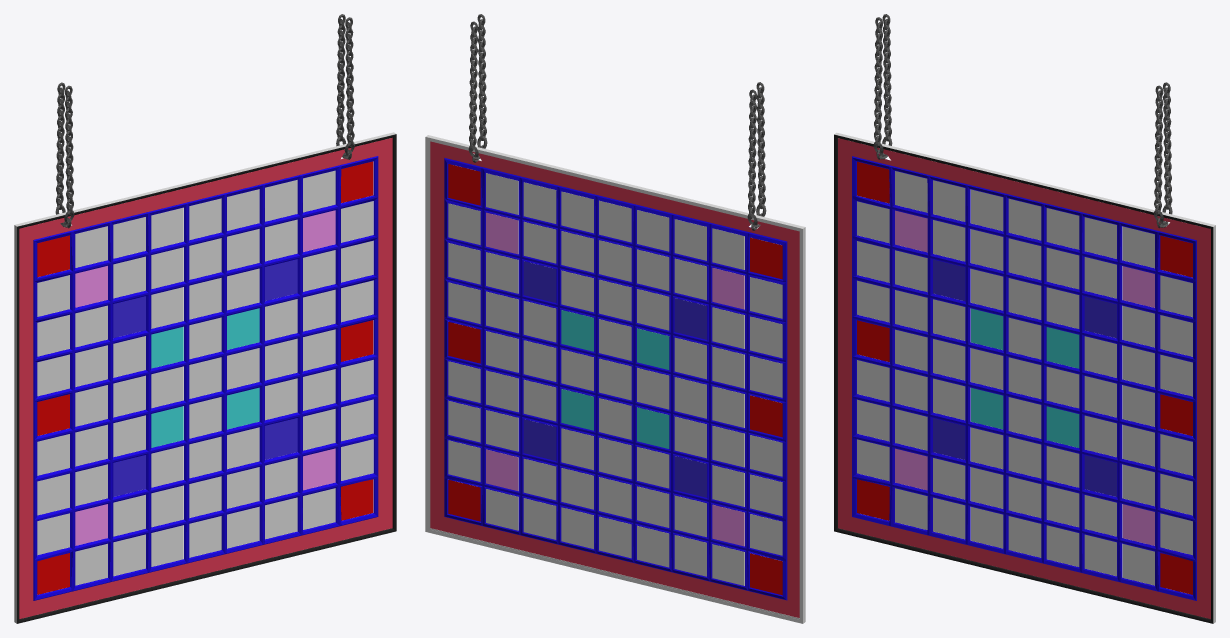
The model's file is Scrabble Board 9x9 .fbx.
3 views of the same model, side by side, from view 1: azimuth 30°, elevation 25°; view 2: azimuth 150°, elevation 25°; view 3: azimuth 330°, elevation 25° (orthographic).
Parts seen in each view (by area): view 1: Scrabble Board Inside Corner, Chain, 5-6, 6-4, 7-2, 4-8, 1-4, 2-1, 2-2, 3-0, 4-7, 5-5 (+71 smaller); view 2: Scrabble Board Inside Corner, Chain, 6-6, 7-6, 4-6, 5-6, 8-6, 3-6, 0-6, 1-6, 2-6, 7-5 (+71 smaller); view 3: Scrabble Board Inside Corner, Chain, 0-5, 3-4, 3-5, 6-4, 6-5, 0-4, 2-4, 4-5, 5-4, 1-5 (+71 smaller).
Boxes of the visible parts, x1,y1,x2,y2 form: Scrabble Board Inside Corner: (14, 132, 396, 623); Chain: (55, 14, 354, 228); 5-6: (265, 378, 297, 420); 6-4: (189, 436, 221, 478); 7-2: (113, 494, 145, 536); 4-8: (341, 320, 373, 361); 1-4: (189, 238, 221, 279); 2-1: (75, 305, 107, 347); 2-2: (113, 296, 145, 337); 3-0: (37, 354, 69, 396); 4-7: (303, 329, 335, 371); 5-5: (227, 387, 259, 429); Scrabble Board Inside Corner: (425, 135, 805, 623); Chain: (468, 14, 766, 230); 6-6: (523, 419, 556, 460); 7-6: (523, 458, 556, 500); 4-6: (523, 340, 556, 381); 5-6: (523, 380, 556, 421); 8-6: (523, 498, 556, 539); 3-6: (523, 301, 556, 342); 0-6: (523, 182, 556, 223); 1-6: (523, 222, 556, 263); 2-6: (523, 261, 556, 302); 7-5: (561, 468, 593, 509); Scrabble Board Inside Corner: (834, 132, 1215, 623); Chain: (873, 14, 1172, 228); 0-5: (1046, 208, 1079, 249); 3-4: (1008, 317, 1041, 359); 3-5: (1046, 327, 1079, 368); 6-4: (1008, 437, 1041, 478); 6-5: (1046, 446, 1079, 487); 0-4: (1008, 198, 1041, 240); 2-4: (1008, 278, 1041, 319); 4-5: (1046, 366, 1079, 408); 5-4: (1008, 397, 1041, 438); 1-5: (1046, 247, 1079, 289).
Size of the model in its own units: 4680 by 6231 by 317.
